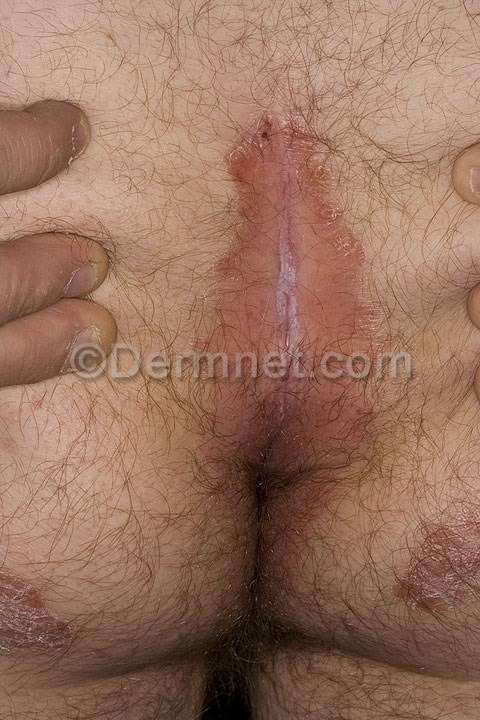Psoriasis: (195, 106, 372, 409)
